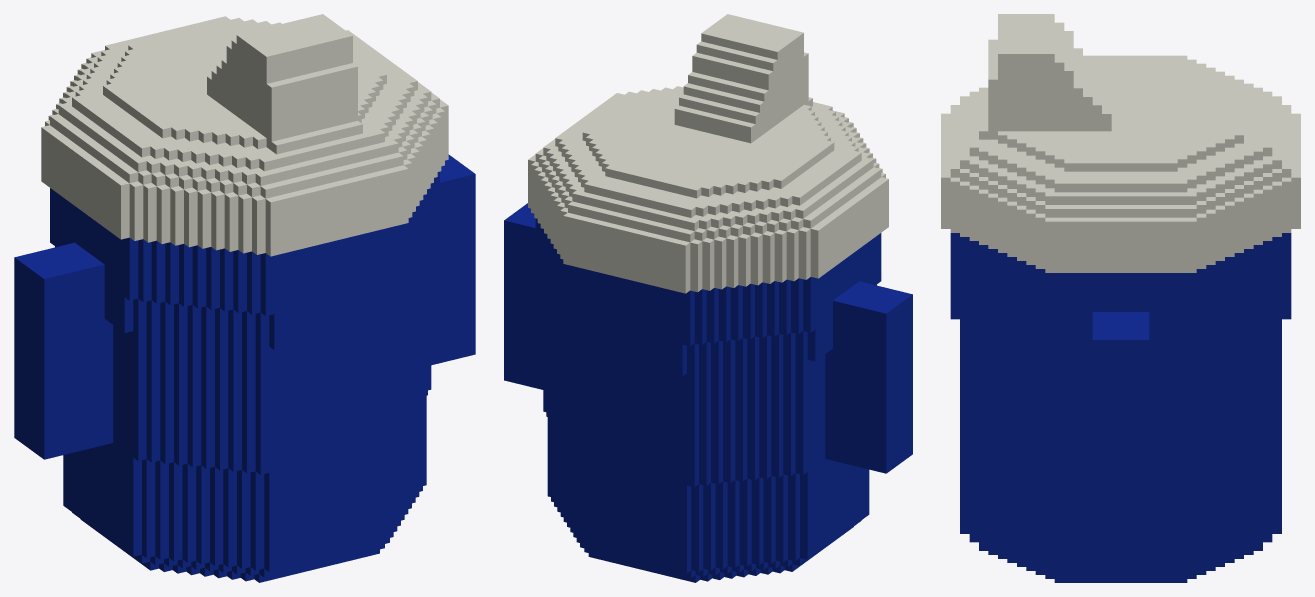
The model's file is sippy_cup.glb.
3 renders of one model, left to right at view 1: azimuth 30°, elevation 25°; view 2: azimuth 150°, elevation 25°; view 3: azimuth 270°, elevation 25°, orthographic. The views are drawn at different scales.
Parts seen in each view (by area): view 1: sippy_cup:compound; view 2: sippy_cup:compound; view 3: sippy_cup:compound.
Part boxes in pixels (x1,y1,x2,y2): sippy_cup:compound: (14,14,475,582); sippy_cup:compound: (504,14,912,582); sippy_cup:compound: (941,14,1300,582).
Bounding box in the file's own units: 0.1 × 0.114 × 0.076.
